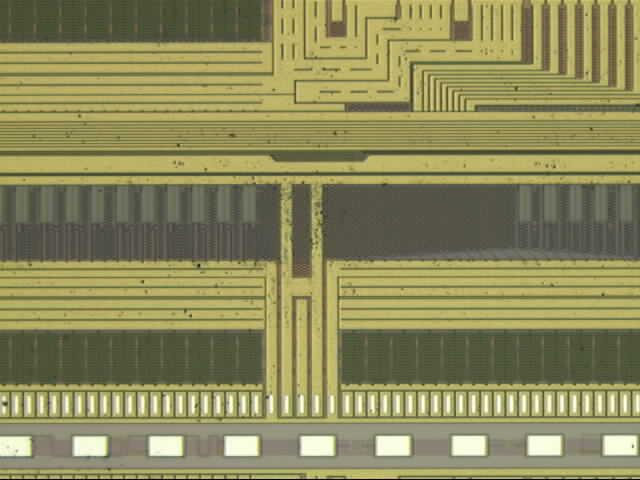PO CONTAMINATION: (1, 74, 640, 419)
